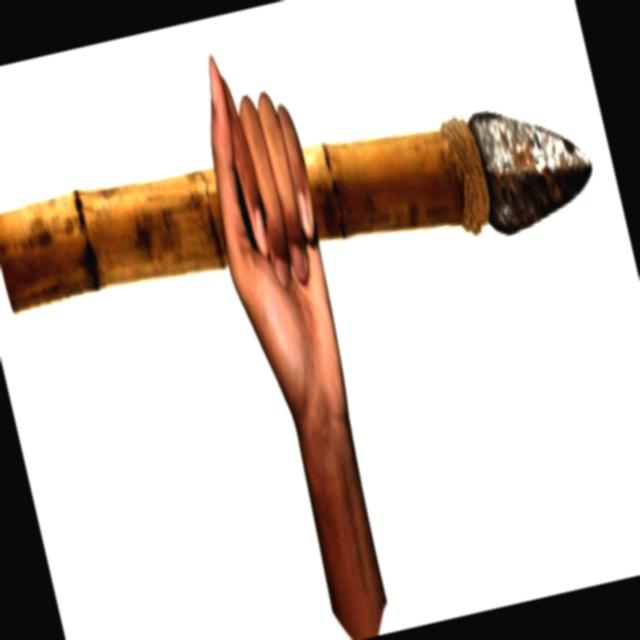spear: (0, 25, 609, 365)
